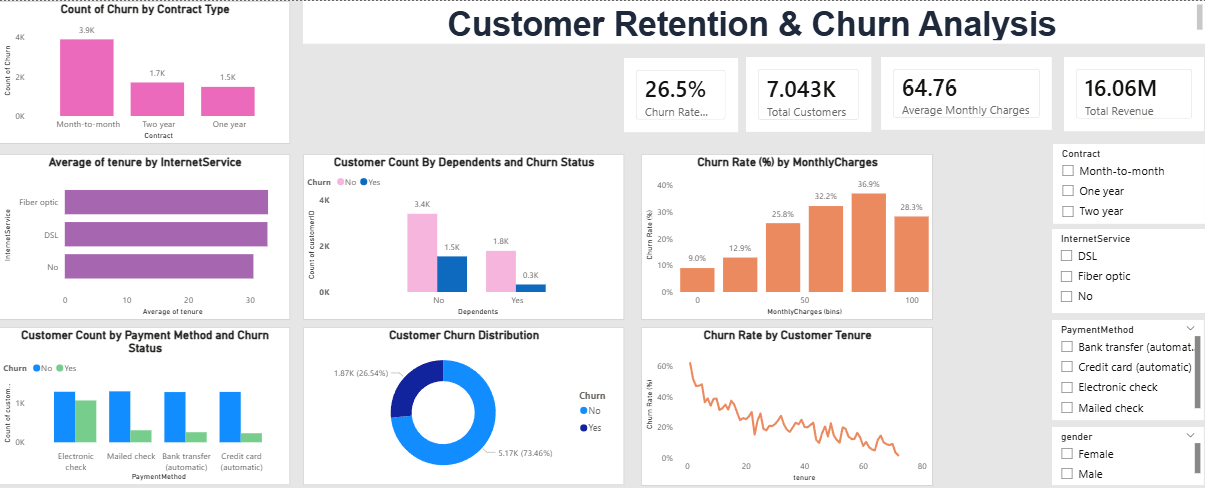

This screenshot's page, from the dashboard's own definition file:
{"tool":"powerbi","page":{"name":"Page 1","canvas":[1750,750],"ordinal":0},"visuals":[{"type":"clusteredColumnChart","title":"Count of Churn by Contract Type","fields":{"Category":["WA_Fn-UseC_-Telco-Customer-Churn.Contract"],"Y":["CountNonNull(WA_Fn-UseC_-Telco-Customer-Churn.Churn)"]},"box":[0,0,415.7,204.3],"z":0},{"type":"barChart","fields":{"Y":["Avg(WA_Fn-UseC_-Telco-Customer-Churn.tenure)"],"Category":["WA_Fn-UseC_-Telco-Customer-Churn.InternetService"]},"box":[0,218.6,415.7,237.1],"z":1000},{"type":"clusteredColumnChart","title":"Customer Count by Payment Method and Churn Status","fields":{"Category":["WA_Fn-UseC_-Telco-Customer-Churn.PaymentMethod"],"Y":["CountNonNull(WA_Fn-UseC_-Telco-Customer-Churn.customerID)"],"Series":["WA_Fn-UseC_-Telco-Customer-Churn.Churn"]},"box":[0,465.7,415.7,225.7],"z":2000},{"type":"lineChart","title":"Churn Rate by Customer Tenure","fields":{"Category":["WA_Fn-UseC_-Telco-Customer-Churn.tenure"],"Y":["WA_Fn-UseC_-Telco-Customer-Churn.Churn Rate (%)"]},"box":[917.1,465.7,417.1,227.1],"z":3000},{"type":"clusteredColumnChart","title":"Customer Count By Dependents and Churn Status","fields":{"Category":["WA_Fn-UseC_-Telco-Customer-Churn.Dependents"],"Y":["CountNonNull(WA_Fn-UseC_-Telco-Customer-Churn.customerID)"],"Series":["WA_Fn-UseC_-Telco-Customer-Churn.Churn"]},"box":[434.3,218.6,458.6,237.1],"z":4000},{"type":"cardVisual","fields":{"Data":["WA_Fn-UseC_-Telco-Customer-Churn.Churn Rate (%)"]},"box":[892.9,81.4,162.9,105.7],"z":5000},{"type":"donutChart","title":"Customer Churn Distribution","fields":{"Category":["WA_Fn-UseC_-Telco-Customer-Churn.Churn"],"Y":["CountNonNull(WA_Fn-UseC_-Telco-Customer-Churn.customerID)"]},"box":[434.3,465.7,458.6,225.7],"z":6000},{"type":"slicer","fields":{"Values":["WA_Fn-UseC_-Telco-Customer-Churn.Contract"]},"box":[1505.7,204.3,217.1,114.3],"z":7000},{"type":"slicer","fields":{"Values":["WA_Fn-UseC_-Telco-Customer-Churn.InternetService"]},"box":[1504.3,325.7,220,120],"z":8000},{"type":"slicer","fields":{"Values":["WA_Fn-UseC_-Telco-Customer-Churn.PaymentMethod"]},"box":[1504.3,455.7,217.1,142.9],"z":9000},{"type":"slicer","fields":{"Values":["WA_Fn-UseC_-Telco-Customer-Churn.gender"]},"box":[1504.3,608.6,217.1,82.9],"z":10000},{"type":"cardVisual","fields":{"Data":["Count(WA_Fn-UseC_-Telco-Customer-Churn.customerID)"]},"box":[1067.1,80,178.6,107.1],"z":11000},{"type":"cardVisual","fields":{"Data":["Avg(WA_Fn-UseC_-Telco-Customer-Churn.MonthlyCharges)"]},"box":[1260,80,244.3,104.3],"z":12000},{"type":"cardVisual","fields":{"Data":["WA_Fn-UseC_-Telco-Customer-Churn.Total Revenue"]},"box":[1521.4,80,200,105.7],"z":13000},{"type":"clusteredColumnChart","title":"Churn Rate (%) by MonthlyCharges","fields":{"Category":["WA_Fn-UseC_-Telco-Customer-Churn.MonthlyCharges (bins)"],"Y":["WA_Fn-UseC_-Telco-Customer-Churn.Churn Rate (%)"]},"box":[917.1,218.6,417.1,237.1],"z":14000},{"type":"textbox","box":[434.3,0,1290,61.4],"z":15000}]}

Visuals, with their boxes on the page's 1750x750 design canvas (x1, y1, x2, y2). These are canvas units, not pixel positions in the 1205x488 screenshot, which may show the page scaled, cropped or inside an application window:
"Count of Churn by Contract Type" clusteredColumnChart: x1=0, y1=0, x2=416, y2=204
barChart - Avg(WA_Fn-UseC_-Telco-Customer-Churn.tenure) x WA_Fn-UseC_-Telco-Customer-Churn.InternetService: x1=0, y1=219, x2=416, y2=456
"Customer Count by Payment Method and Churn Status" clusteredColumnChart: x1=0, y1=466, x2=416, y2=691
"Churn Rate by Customer Tenure" lineChart: x1=917, y1=466, x2=1334, y2=693
"Customer Count By Dependents and Churn Status" clusteredColumnChart: x1=434, y1=219, x2=893, y2=456
cardVisual - WA_Fn-UseC_-Telco-Customer-Churn.Churn Rate (%): x1=893, y1=81, x2=1056, y2=187
"Customer Churn Distribution" donutChart: x1=434, y1=466, x2=893, y2=691
slicer - WA_Fn-UseC_-Telco-Customer-Churn.Contract: x1=1506, y1=204, x2=1723, y2=319
slicer - WA_Fn-UseC_-Telco-Customer-Churn.InternetService: x1=1504, y1=326, x2=1724, y2=446
slicer - WA_Fn-UseC_-Telco-Customer-Churn.PaymentMethod: x1=1504, y1=456, x2=1721, y2=599
slicer - WA_Fn-UseC_-Telco-Customer-Churn.gender: x1=1504, y1=609, x2=1721, y2=692
cardVisual - Count(WA_Fn-UseC_-Telco-Customer-Churn.customerID): x1=1067, y1=80, x2=1246, y2=187
cardVisual - Avg(WA_Fn-UseC_-Telco-Customer-Churn.MonthlyCharges): x1=1260, y1=80, x2=1504, y2=184
cardVisual - WA_Fn-UseC_-Telco-Customer-Churn.Total Revenue: x1=1521, y1=80, x2=1721, y2=186
"Churn Rate (%) by MonthlyCharges" clusteredColumnChart: x1=917, y1=219, x2=1334, y2=456
textbox: x1=434, y1=0, x2=1724, y2=61
